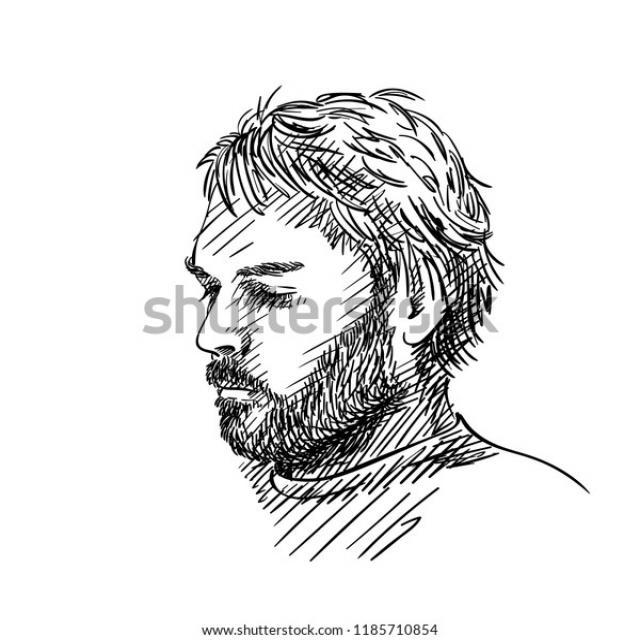real: (181, 166, 445, 455), (185, 271, 317, 322)
